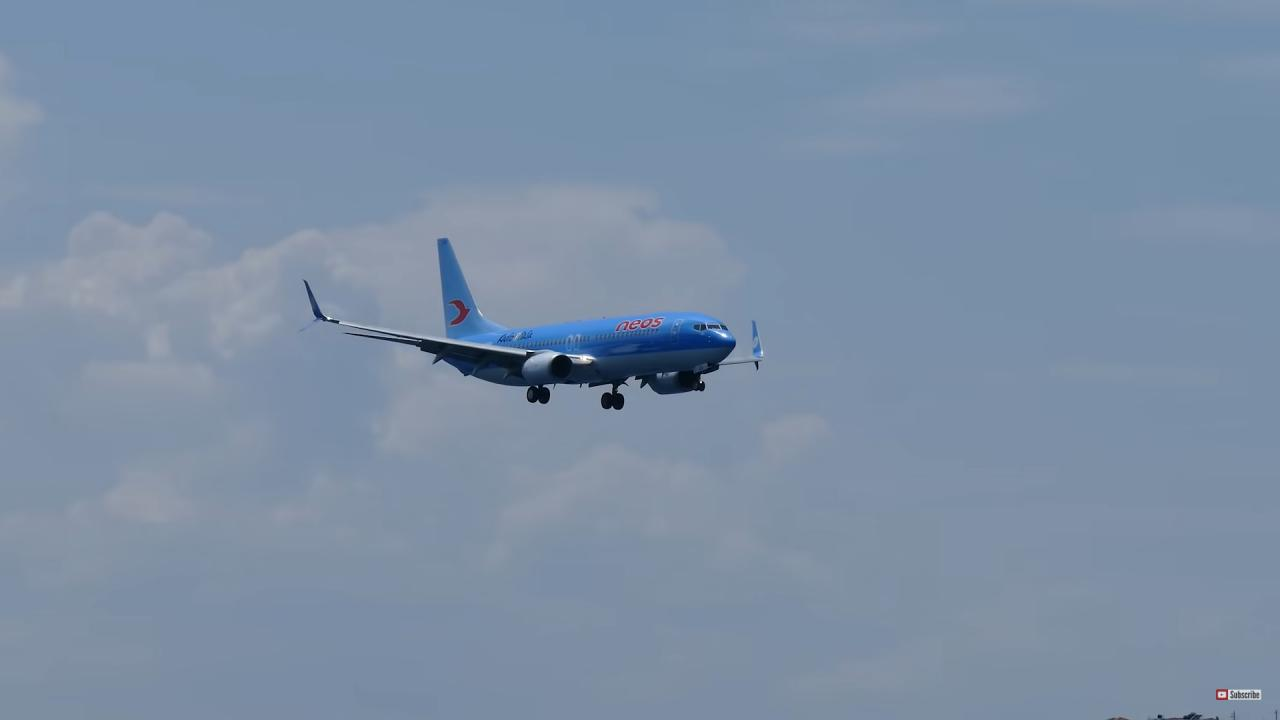Airplane: (288, 217, 785, 423)
